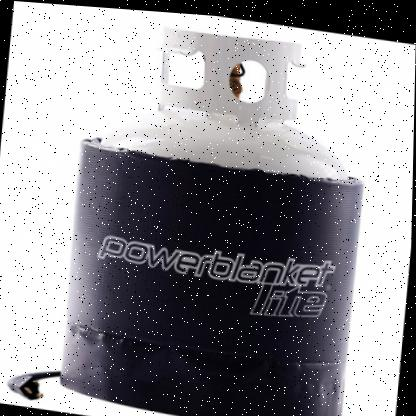gas-tank: (58, 4, 402, 200)
